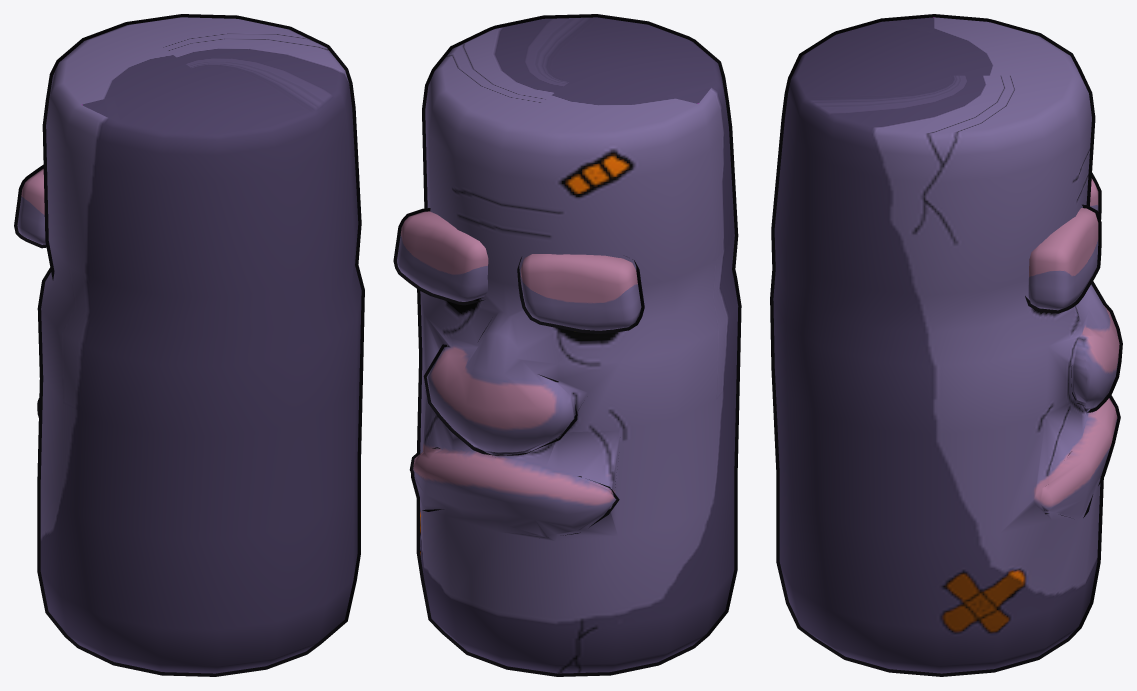
The model's file is pillar_john.glb.
3 renders of one model, left to right at view 1: azimuth 30°, elevation 25°; view 2: azimuth 150°, elevation 25°; view 3: azimuth 270°, elevation 25°, orthographic.
Parts seen in each view (by area): view 1: Object_2; view 2: Object_2; view 3: Object_2.
Boxes of the visible parts, x1,y1,x2,y2 form: Object_2: [14, 14, 364, 676]; Object_2: [393, 14, 741, 676]; Object_2: [770, 14, 1122, 676].
Size of the model in its own units: 9.61 by 17.65 by 10.33.
1 material, 1 textured.
